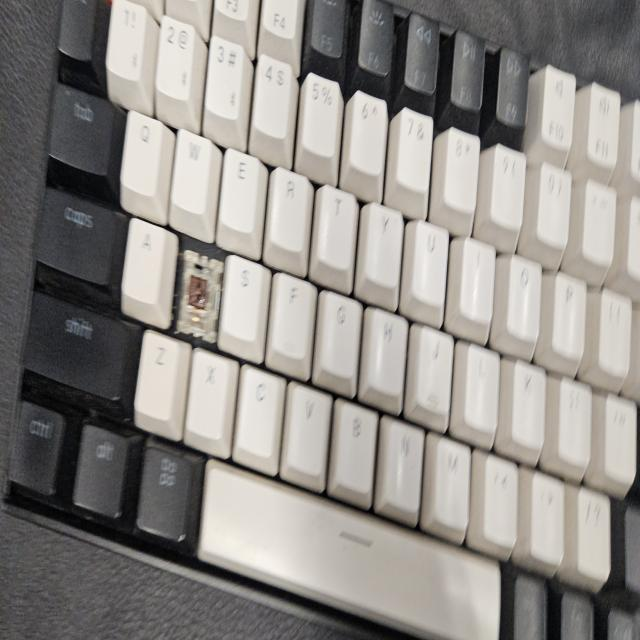C: (183, 266, 210, 324)
